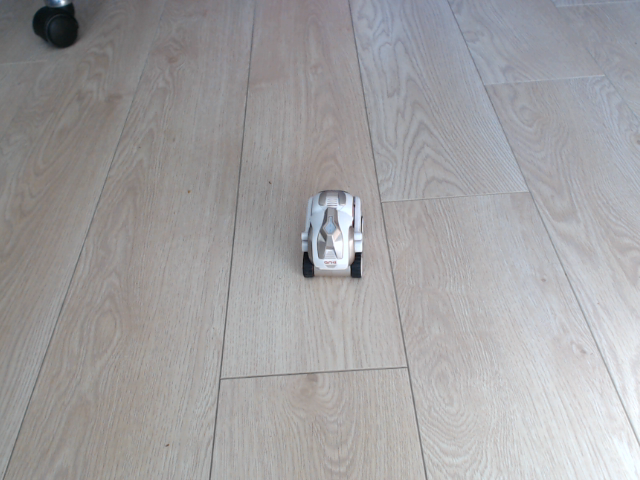cozmo: (300, 189, 365, 281)
